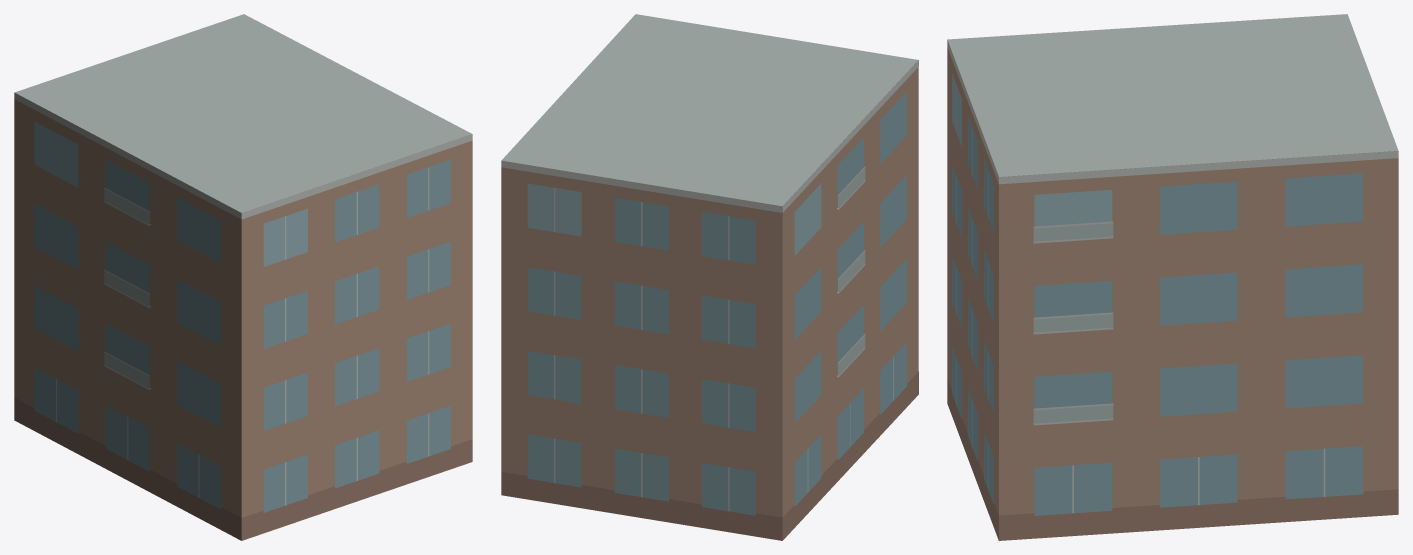
File: survey-upis-32707851.glb
3 renders of one model, left to right at view 1: azimuth 30°, elevation 25°; view 2: azimuth 150°, elevation 25°; view 3: azimuth 270°, elevation 25°, orthographic. The views are drawn at different scales.
Visible parts, largest first — view 1: survey-upis-32707851.tmp; view 2: survey-upis-32707851.tmp; view 3: survey-upis-32707851.tmp.
Boxes of the visible parts, bbox=[...] form: survey-upis-32707851.tmp: bbox=[14, 14, 472, 540]; survey-upis-32707851.tmp: bbox=[501, 14, 918, 540]; survey-upis-32707851.tmp: bbox=[947, 14, 1398, 540].
Size of the model in its own units: 11.73 by 12.2 by 13.72.
